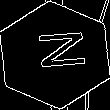N_W: (26, 33, 84, 77)
